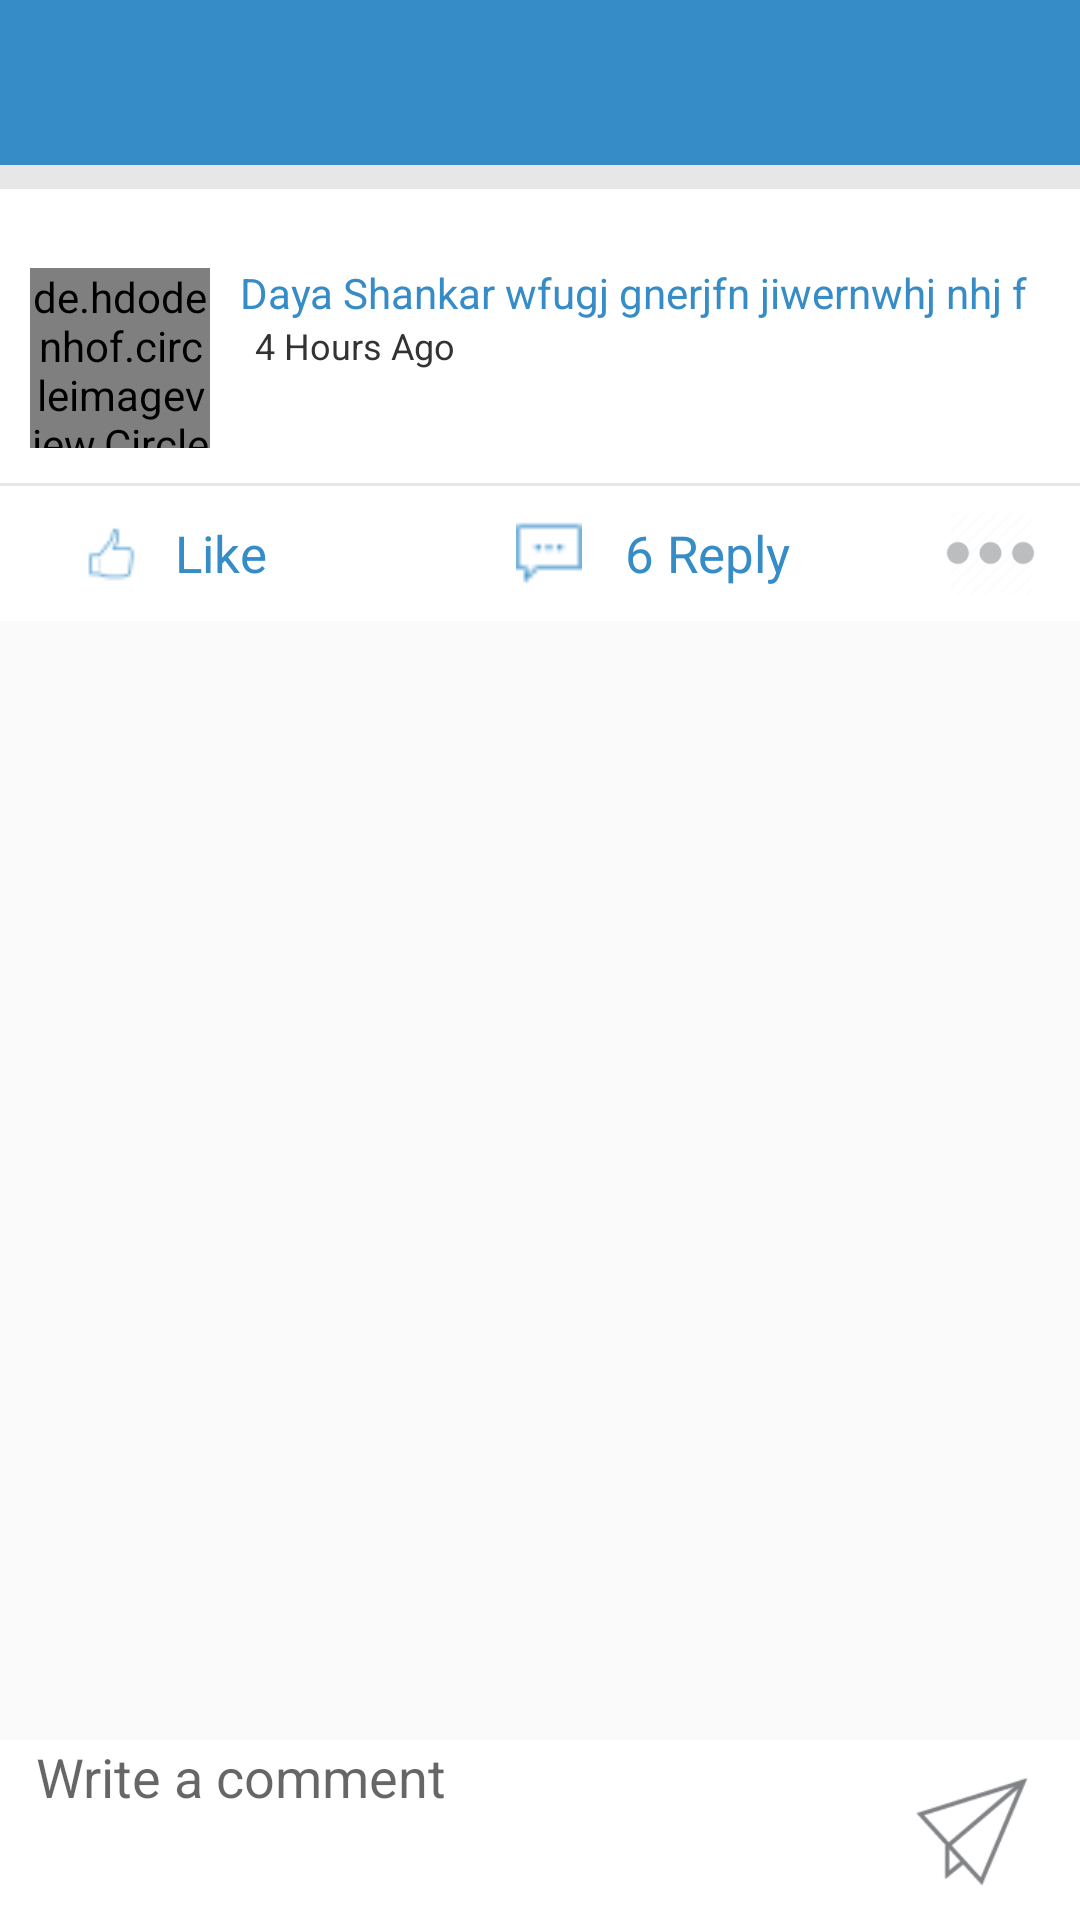

Where icons sit on this 1080 × 1920 app screen, as bbox(x1, y1, x2, y2):
comment: bbox(516, 523, 582, 583)
send: bbox(917, 1778, 1028, 1885)
